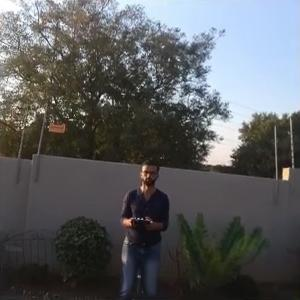follow: (115, 152, 173, 299)
